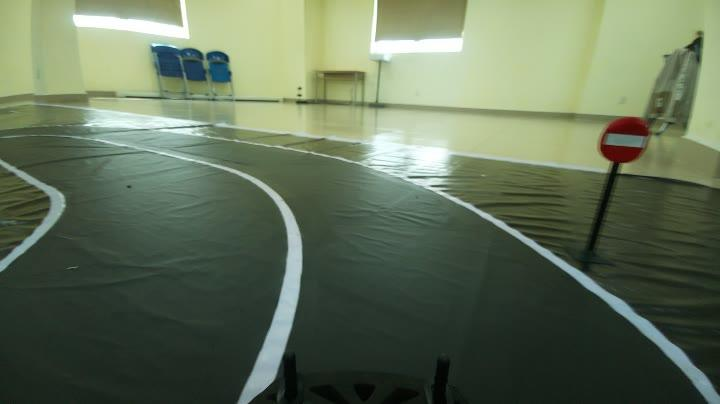no_entry: (598, 107, 654, 167)
